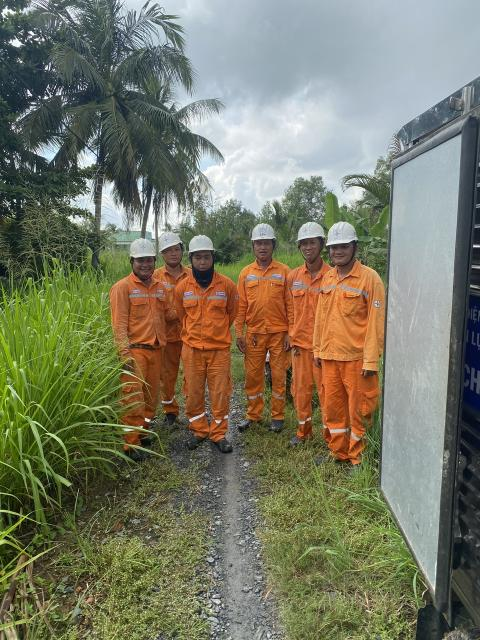helmet: (329, 217, 358, 246), (185, 231, 216, 256), (127, 237, 157, 260), (294, 222, 327, 242), (249, 223, 278, 241), (157, 232, 183, 252)
shoes: (287, 430, 315, 452), (236, 413, 264, 433), (211, 434, 235, 456), (126, 443, 151, 464), (157, 410, 180, 431), (187, 431, 205, 451), (270, 415, 286, 435), (139, 435, 158, 449)
